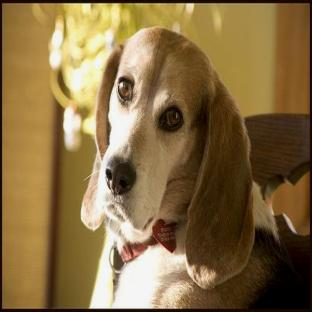Animal: (80, 27, 308, 310)
